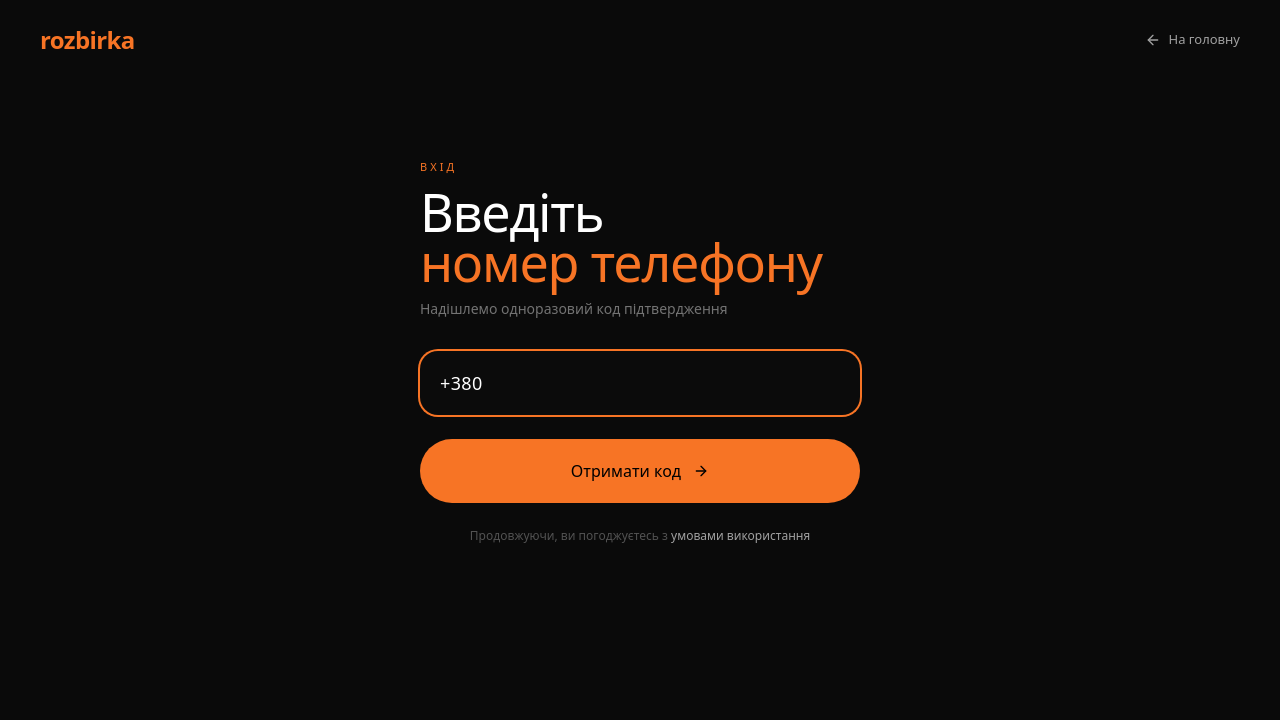
Test: disables OTP resend during backend cooldown and applies retryAfterSeconds
The image size is (1280, 720).
Type "+380 50 111 22 33" into the field named "Номер телефону" at {"x": 640, "y": 383}, box left=420, top=351, right=860, bottom=415
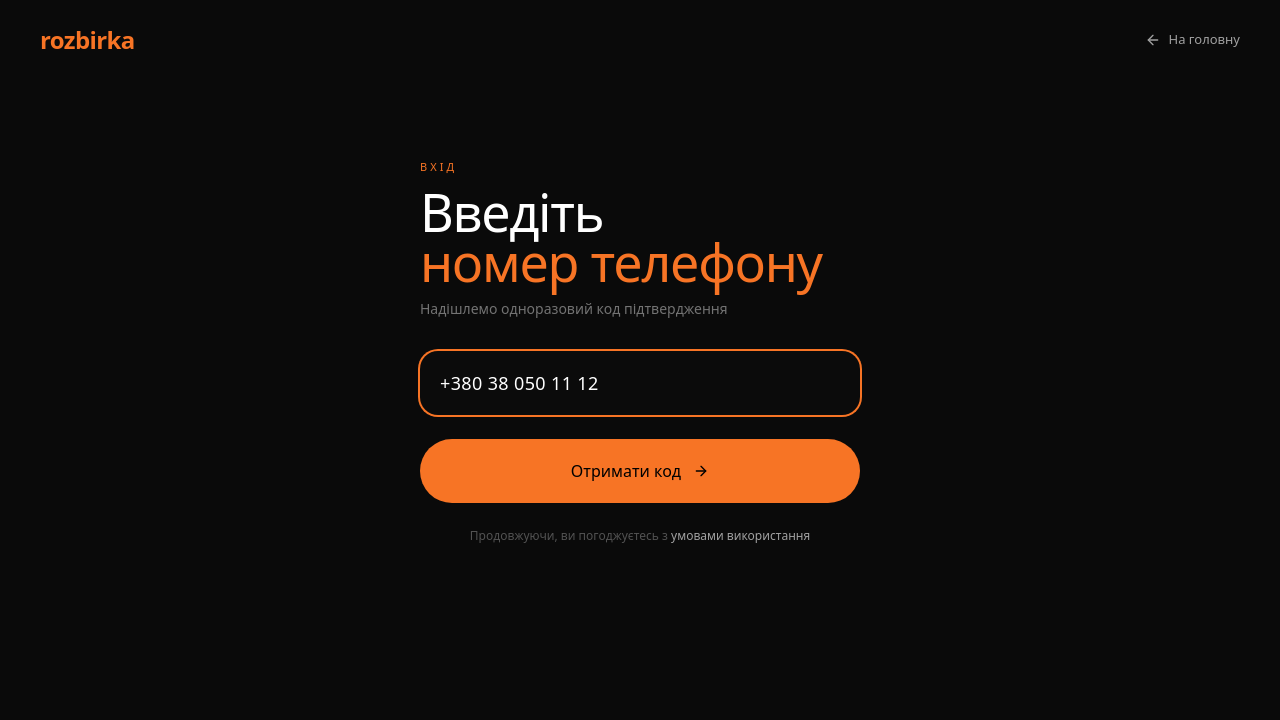
Click the button "Отримати код" at {"x": 640, "y": 471}, box left=420, top=439, right=860, bottom=503
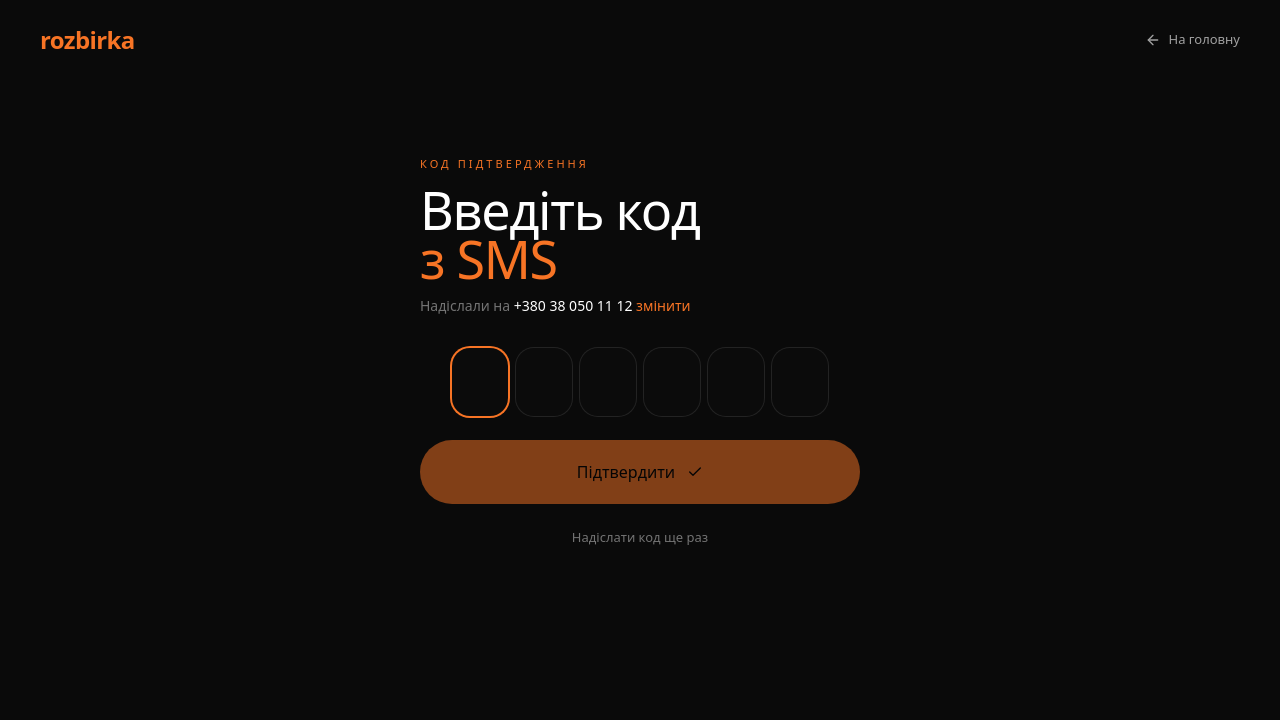
Expected: the field named "Цифра 1" is shown, left=452, top=348, right=508, bottom=416
Click the button "Надіслати код ще раз" at {"x": 640, "y": 538}, box left=420, top=528, right=860, bottom=548
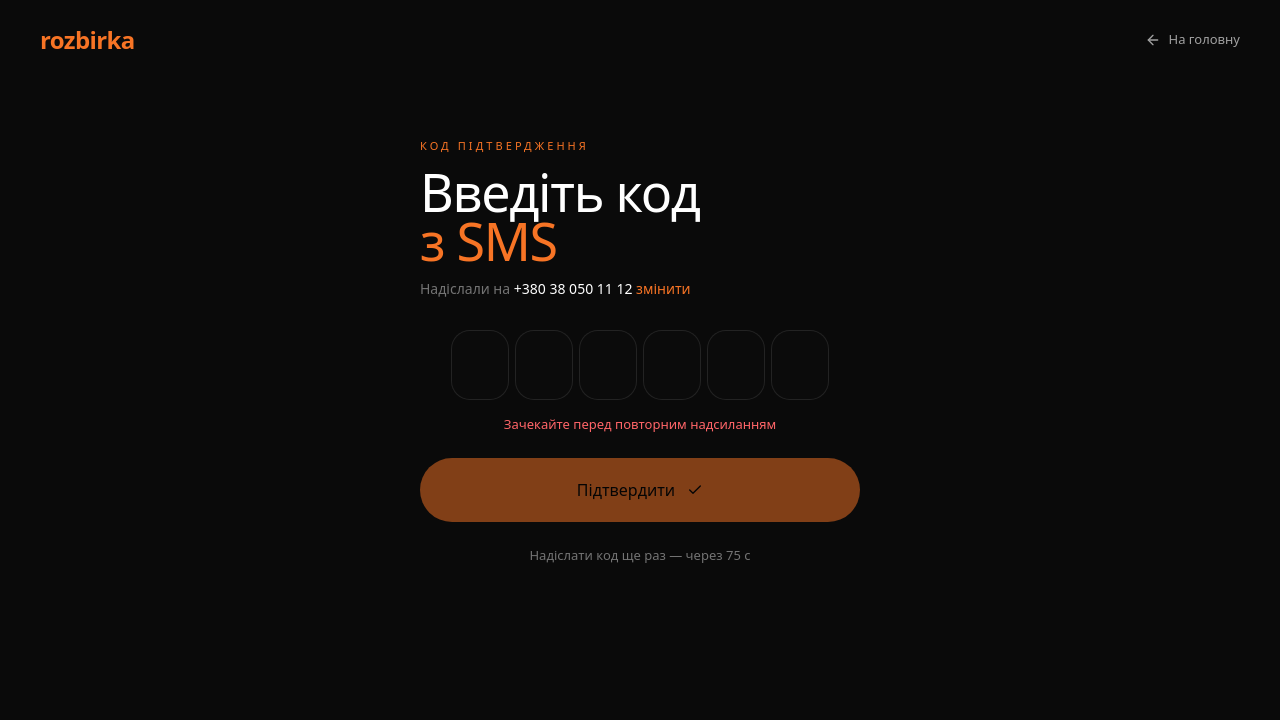
Expected: the button "Надіслати код ще раз — через 75 с" is disabled, left=420, top=546, right=860, bottom=566
